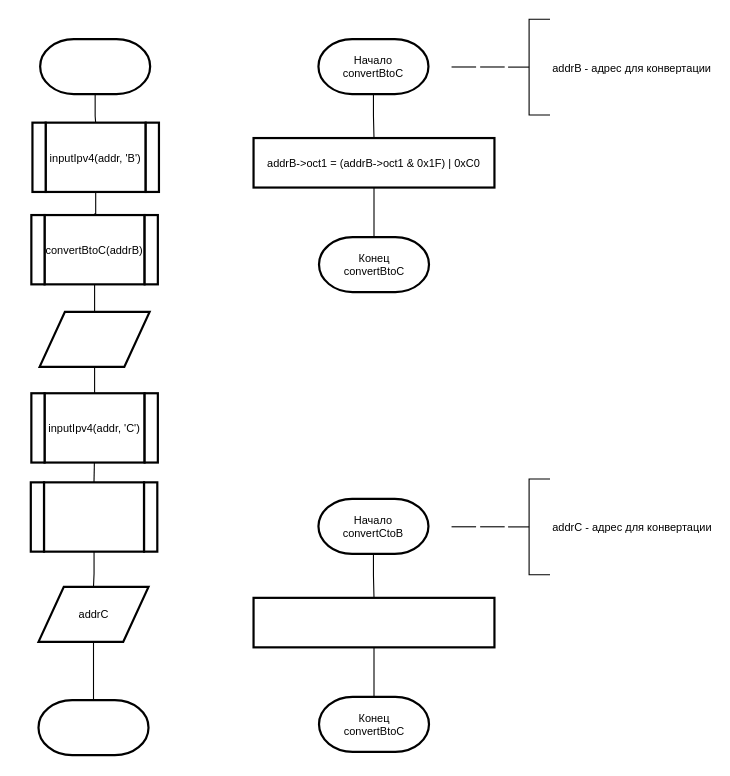
Some shapes in this 730 by 776 pixel diagram are drawn without their labels. The shapes that lost their labels are listed below. From the top down, each one's centre as x and y in pixels, then its label:
At (94,66): "Начало".
At (94,338): "addrB".
At (93,516): "convertCtoB(addrC)".
At (373,622): "addrC->oct1 = (addrC->oct1 & 0x3F) | 0x80".
At (93,727): "Конец".
